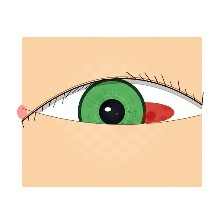hemorrhage_spot: (105, 80, 185, 145)
